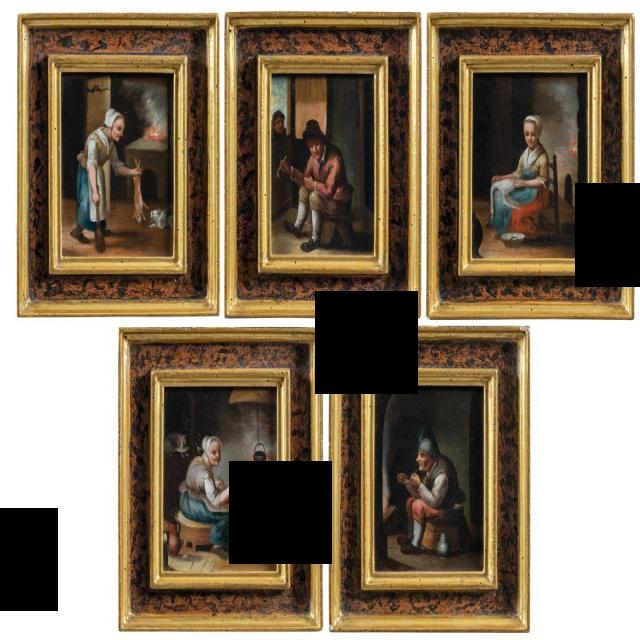Tablo: (160, 385, 281, 577), (470, 70, 589, 261), (371, 383, 487, 576), (59, 69, 175, 259), (269, 71, 376, 259)
